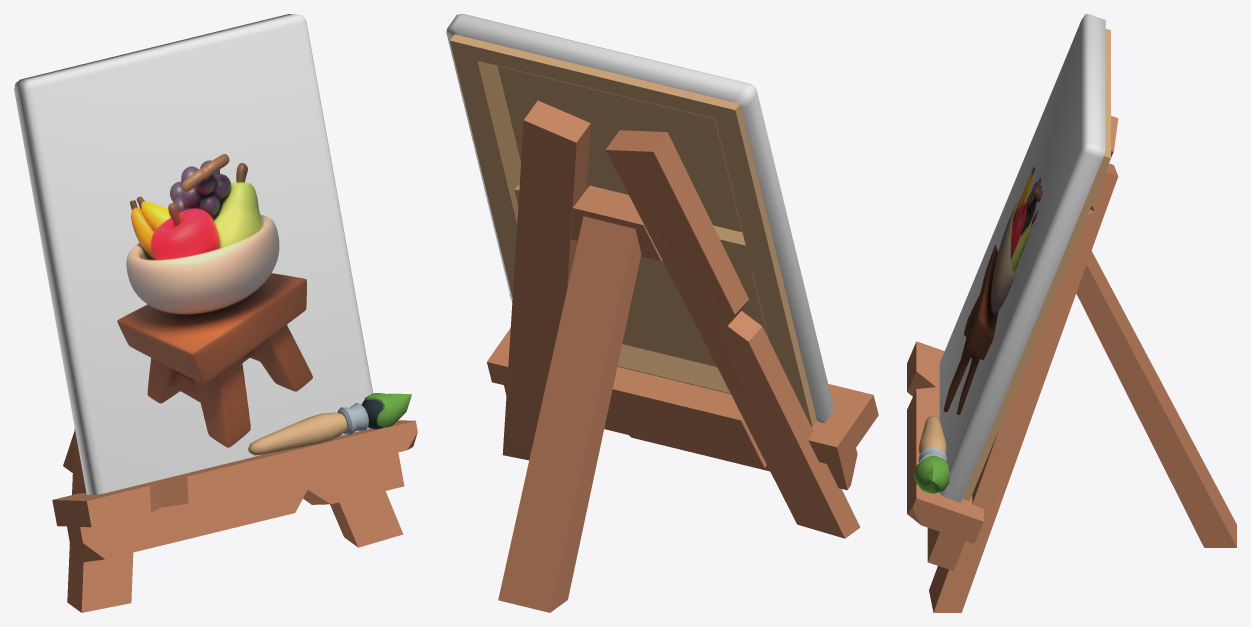
File: easel_with_painting.fbx
The picture shows the model from 3 angles, left to right: view 1: azimuth 30°, elevation 25°; view 2: azimuth 150°, elevation 25°; view 3: azimuth 270°, elevation 25°; orthographic projection. The views are drawn at different scales.
Visible parts, largest first — view 1: easel_painting_textured, easel_with_painting, easel_paintbrush; view 2: easel_with_painting, easel_painting_textured; view 3: easel_painting_textured, easel_with_painting, easel_paintbrush.
Part boxes in pixels (x1=…): easel_painting_textured: x1=14, y1=14, x2=372, y2=494; easel_with_painting: x1=52, y1=420, x2=417, y2=612; easel_paintbrush: x1=248, y1=393, x2=411, y2=455; easel_with_painting: x1=487, y1=100, x2=878, y2=612; easel_painting_textured: x1=446, y1=14, x2=834, y2=426; easel_painting_textured: x1=939, y1=14, x2=1110, y2=502; easel_with_painting: x1=907, y1=116, x2=1236, y2=612; easel_paintbrush: x1=914, y1=415, x2=949, y2=493.
Bounding box in the file's own units: 1.4 × 1.88 × 1.23.
